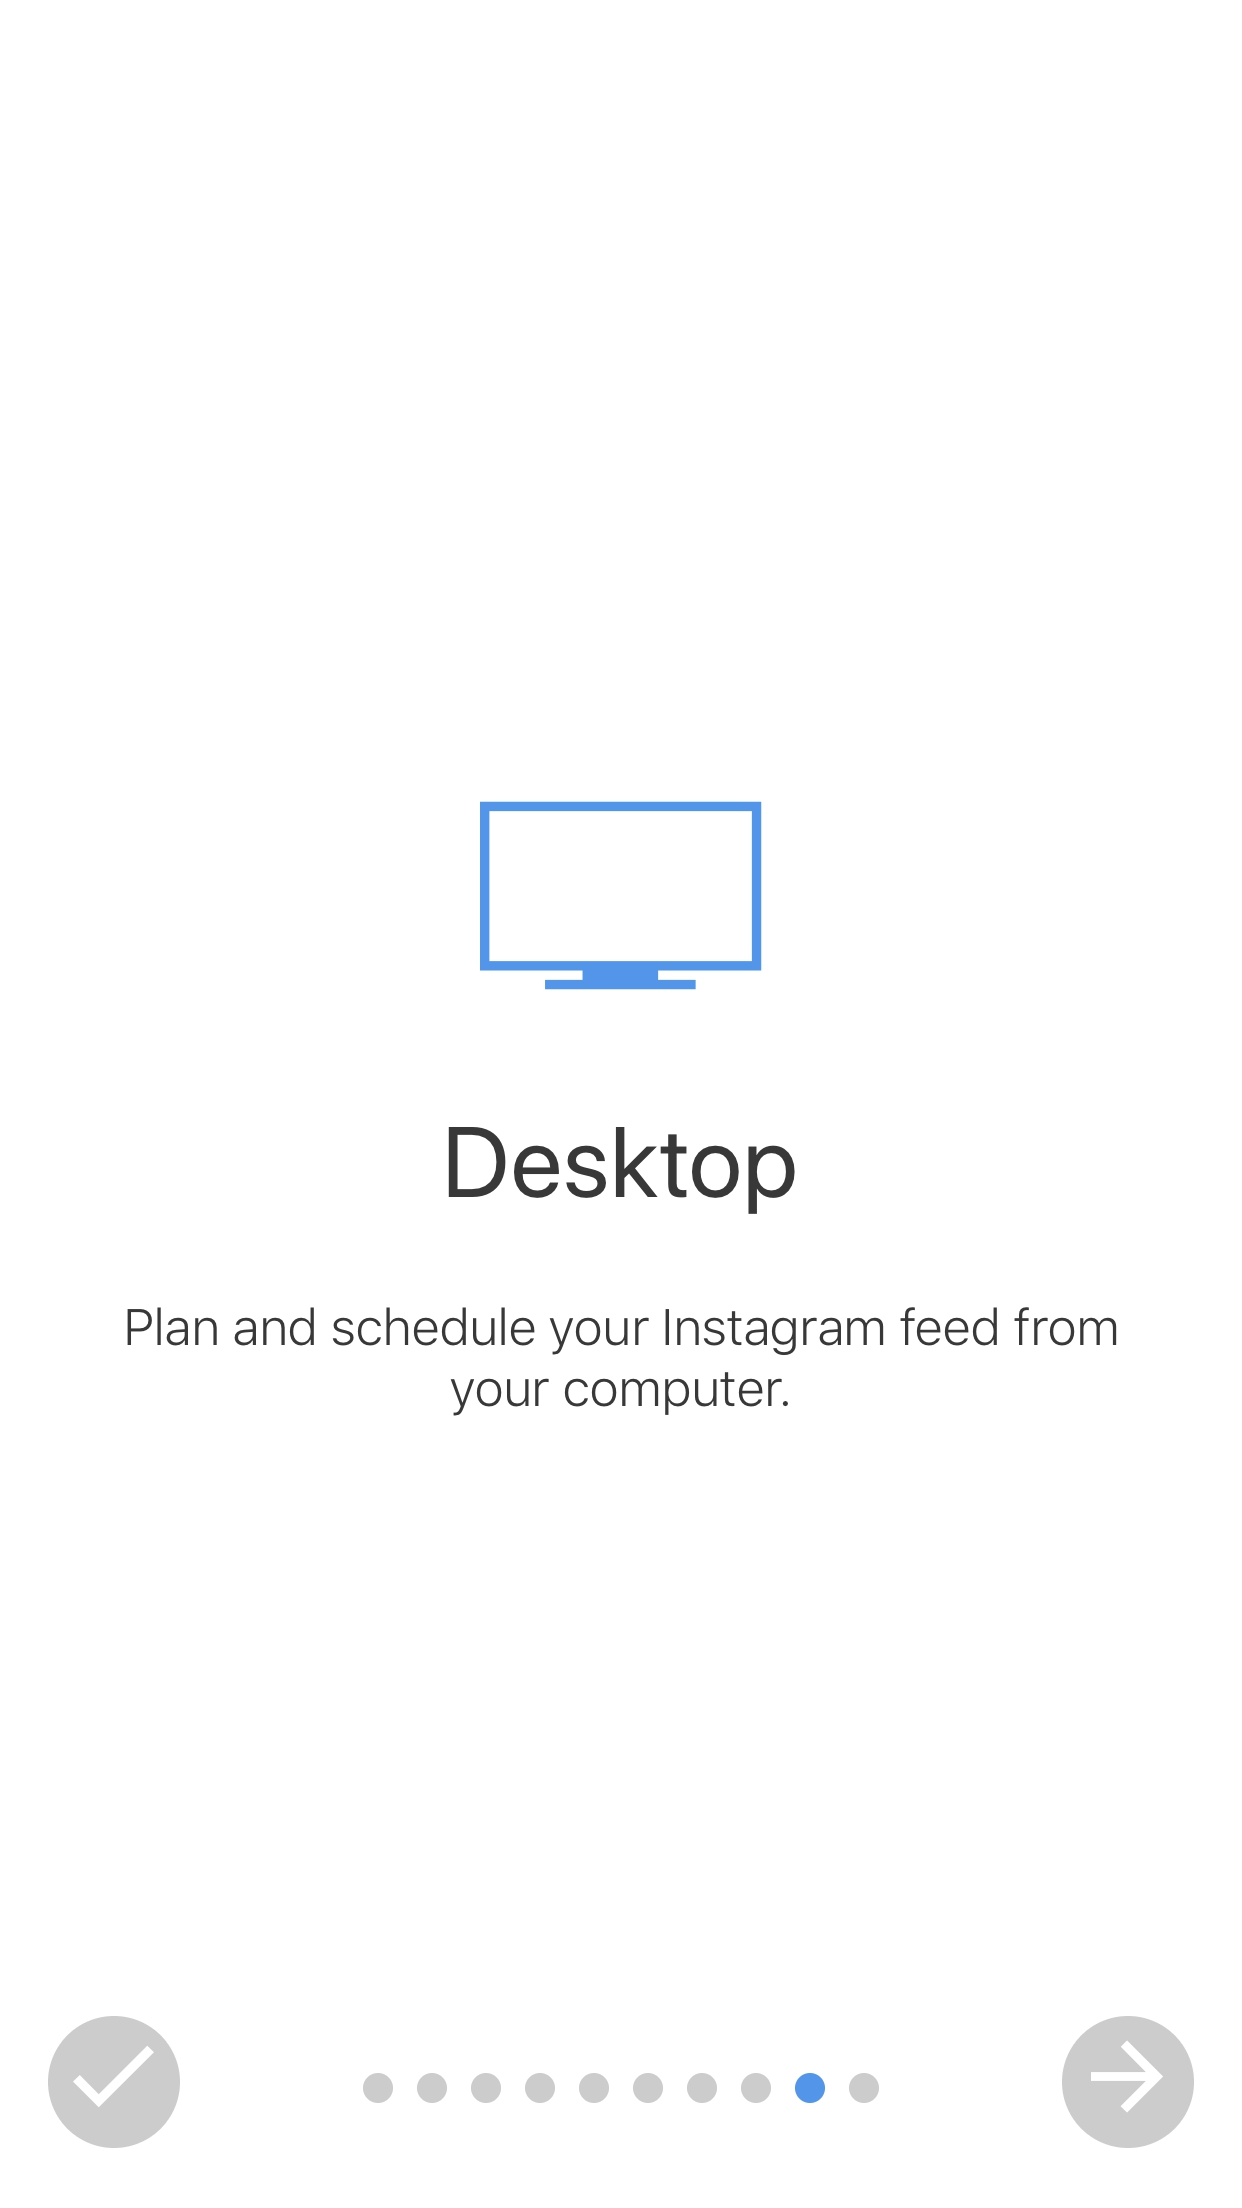Icon: (481, 801, 761, 990), (1062, 2015, 1193, 2147), (49, 2015, 180, 2147)
PageIndicator: (362, 2072, 880, 2103)
Text: (127, 1307, 1118, 1416), (447, 1127, 795, 1215)
